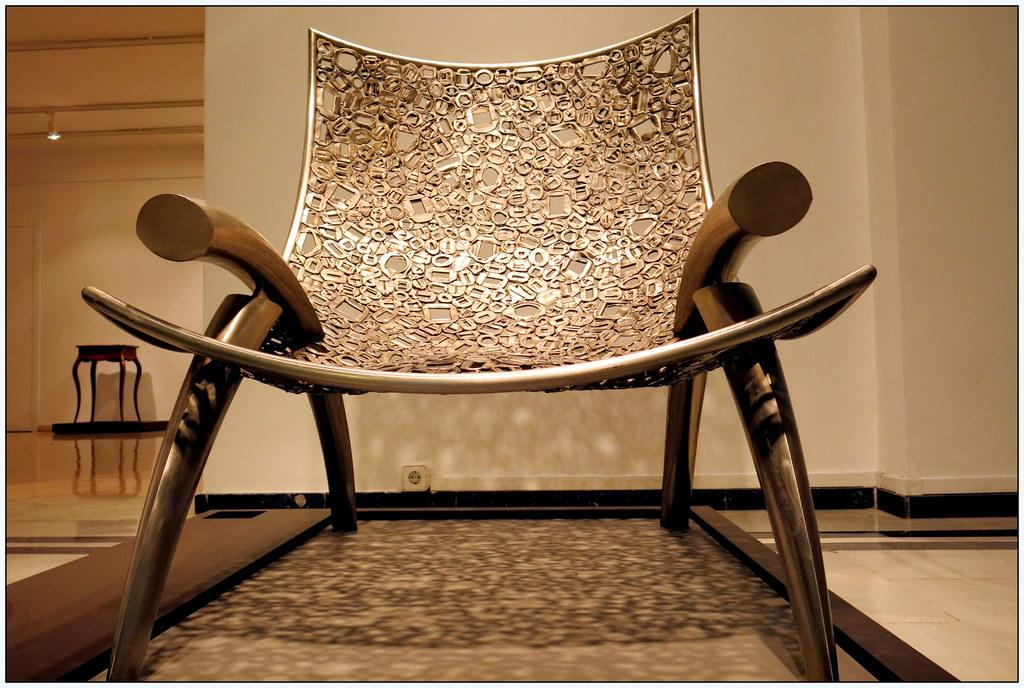Chair: (106, 0, 829, 654)
